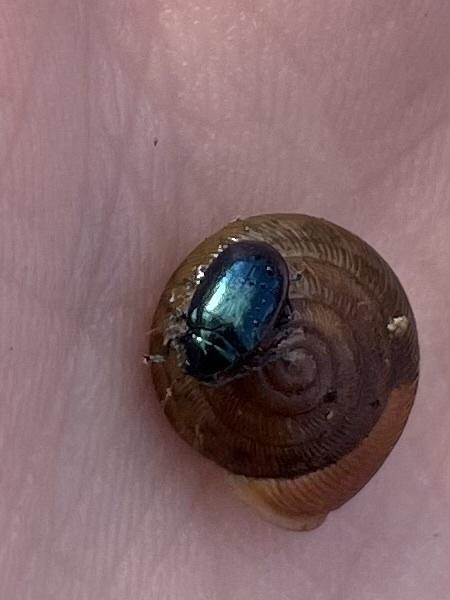flea_beetle: (140, 206, 336, 425)
